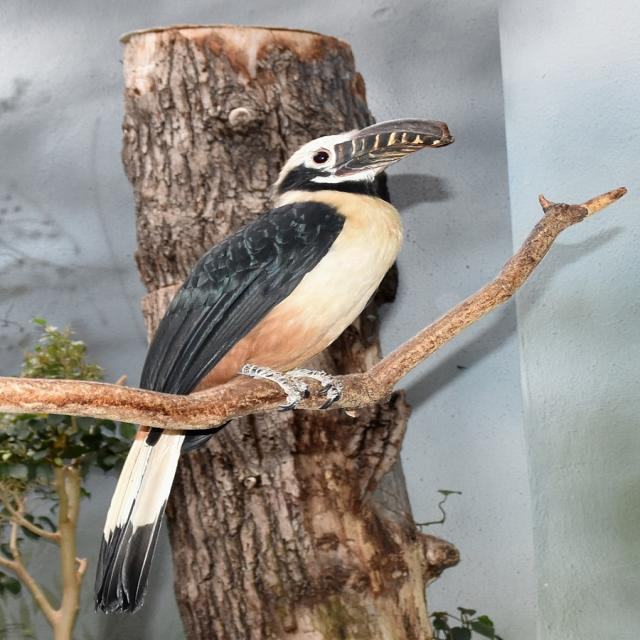Hornbill: (86, 122, 459, 606)
